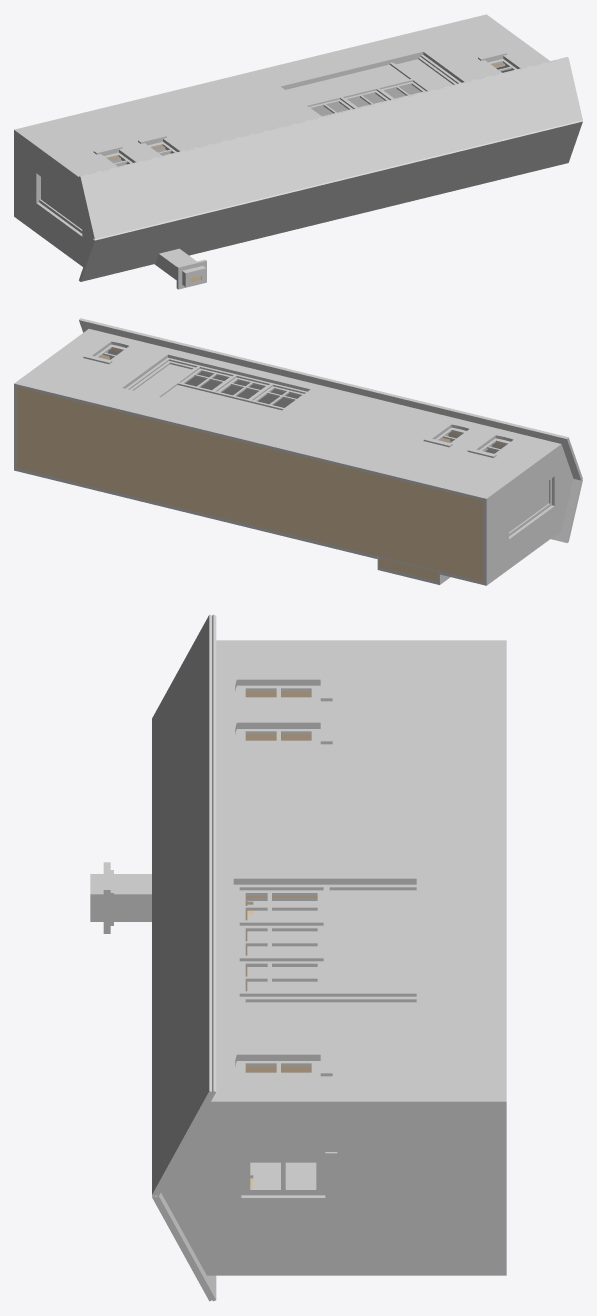
File: platform-shelter.gltf
3 renders of one model, top to bottom at view 1: azimuth 30°, elevation 25°; view 2: azimuth 150°, elevation 25°; view 3: azimuth 270°, elevation 25°, orthographic. The views are drawn at different scales.
Visible parts, largest first — view 1: platform_shelter_c6_front_roof_p1_roof_layer_1_part, platform_shelter_c1_front_wall_p1_outside_wall_part, platform_shelter_c5_back_roof_p1_roof_layer_1_part, platform_shelter_c4_left_wall_p1_outside_wall_part, platform_shelter_c1_front_wall_c6_door_windows_p1_layer2_par, platform_shelter_c1_front_wall_c6_door_windows_p0_layer1_par, platform_shelter_c4_left_wall_c0_door_p1_door_part, platform_shelter_c6_front_roof_p0_roof_layer_0_part, platform_shelter_c0_floor_p1_inside_floor_part, platform_shelter_c1_front_wall_c6_door_windows_p2_door_part, platform_shelter_c2_back_wall_c3_external_chimney_c0_externa; view 2: platform_shelter_c0_floor_p0_base_floor_part, platform_shelter_c1_front_wall_p1_outside_wall_part, platform_shelter_c4_left_wall_p1_outside_wall_part, platform_shelter_c6_front_roof_p0_roof_layer_0_part, platform_shelter_c1_front_wall_p0_base_wall_part, platform_shelter_c2_back_wall_p0_base_wall_part, platform_shelter_c1_front_wall_c6_door_windows_p1_layer2_par, platform_shelter_c2_back_wall_p1_outside_wall_part, platform_shelter_c1_front_wall_c6_door_windows_p0_layer1_par, platform_shelter_c4_left_wall_c0_door_p1_door_part, platform_shelter_c6_front_roof_p1_roof_layer_1_part, platform_shelter_c1_front_wall_c6_door_windows_p2_door_part (+2 smaller); view 3: platform_shelter_c1_front_wall_p1_outside_wall_part, platform_shelter_c3_right_wall_p1_outside_wall_part, platform_shelter_c6_front_roof_p1_roof_layer_1_part, platform_shelter_c1_front_wall_c6_door_windows_p1_layer2_par, platform_shelter_c2_back_wall_p2_inside_wall_part, platform_shelter_c1_front_wall_c6_door_windows_p0_layer1_par, platform_shelter_c6_front_roof_p0_roof_layer_0_part, platform_shelter_c1_front_wall_c6_door_windows_p2_door_part, platform_shelter_c3_right_wall_c0_window_p0_frame_part, platform_shelter_c1_front_wall_p0_base_wall_part, platform_shelter_c4_left_wall_p1_outside_wall_part, platform_shelter_c5_back_roof_p0_roof_layer_0_part (+1 smaller).
Part boxes in pixels (x1,y1,x2,y2): platform_shelter_c6_front_roof_p1_roof_layer_1_part: (80, 57, 582, 239); platform_shelter_c1_front_wall_p1_outside_wall_part: (17, 15, 547, 175); platform_shelter_c5_back_roof_p1_roof_layer_1_part: (80, 120, 582, 281); platform_shelter_c4_left_wall_p1_outside_wall_part: (14, 129, 92, 266); platform_shelter_c1_front_wall_c6_door_windows_p1_layer2_par: (285, 57, 456, 116); platform_shelter_c1_front_wall_c6_door_windows_p0_layer1_par: (284, 55, 461, 108); platform_shelter_c4_left_wall_c0_door_p1_door_part: (41, 177, 82, 229); platform_shelter_c6_front_roof_p0_roof_layer_0_part: (79, 57, 567, 238); platform_shelter_c0_floor_p1_inside_floor_part: (112, 85, 420, 166); platform_shelter_c1_front_wall_c6_door_windows_p2_door_part: (396, 59, 452, 89); platform_shelter_c2_back_wall_c3_external_chimney_c0_externa: (158, 248, 196, 267); platform_shelter_c0_floor_p0_base_floor_part: (17, 387, 483, 582); platform_shelter_c1_front_wall_p1_outside_wall_part: (17, 329, 557, 500); platform_shelter_c4_left_wall_p1_outside_wall_part: (483, 443, 573, 585); platform_shelter_c6_front_roof_p0_roof_layer_0_part: (79, 319, 581, 480); platform_shelter_c1_front_wall_p0_base_wall_part: (26, 348, 506, 506); platform_shelter_c2_back_wall_p0_base_wall_part: (25, 461, 473, 578); platform_shelter_c1_front_wall_c6_door_windows_p1_layer2_par: (129, 361, 303, 422); platform_shelter_c2_back_wall_p1_outside_wall_part: (17, 468, 483, 584); platform_shelter_c1_front_wall_c6_door_windows_p0_layer1_par: (125, 357, 306, 410); platform_shelter_c4_left_wall_c0_door_p1_door_part: (509, 480, 548, 532); platform_shelter_c6_front_roof_p1_roof_layer_1_part: (80, 318, 582, 479); platform_shelter_c1_front_wall_c6_door_windows_p2_door_part: (134, 364, 191, 395); platform_shelter_c1_front_wall_p1_outside_wall_part: (213, 643, 506, 1098); platform_shelter_c3_right_wall_p1_outside_wall_part: (161, 1098, 506, 1275); platform_shelter_c6_front_roof_p1_roof_layer_1_part: (152, 614, 212, 1195); platform_shelter_c1_front_wall_c6_door_windows_p1_layer2_par: (239, 890, 416, 1017); platform_shelter_c2_back_wall_p2_inside_wall_part: (247, 901, 317, 1188); platform_shelter_c1_front_wall_c6_door_windows_p0_layer1_par: (233, 884, 416, 1017); platform_shelter_c6_front_roof_p0_roof_layer_0_part: (156, 614, 216, 1195); platform_shelter_c1_front_wall_c6_door_windows_p2_door_part: (245, 1002, 416, 1017); platform_shelter_c3_right_wall_c0_window_p0_frame_part: (240, 1160, 325, 1195); platform_shelter_c1_front_wall_p0_base_wall_part: (245, 691, 317, 1072); platform_shelter_c4_left_wall_p1_outside_wall_part: (216, 640, 506, 643); platform_shelter_c5_back_roof_p0_roof_layer_0_part: (156, 1193, 216, 1301).
Size of the model in its own units: 188 by 40.82 by 69.42.
